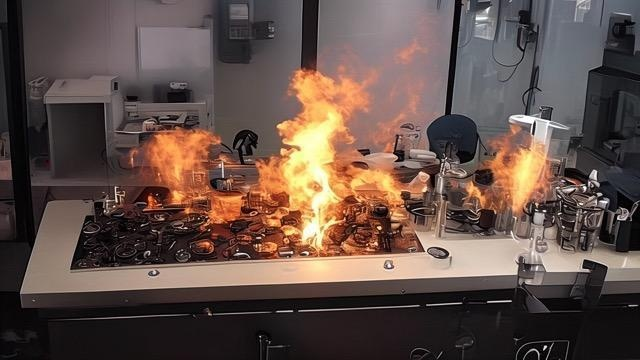fire: (107, 68, 409, 258), (479, 125, 552, 214)
